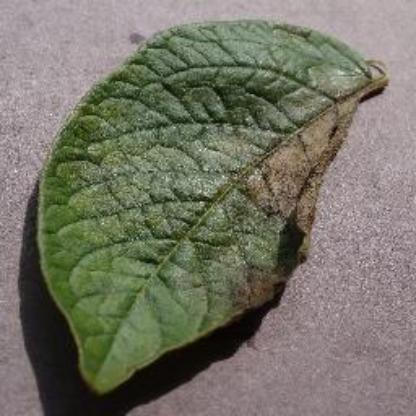Late-Blight: (12, 8, 416, 390)
